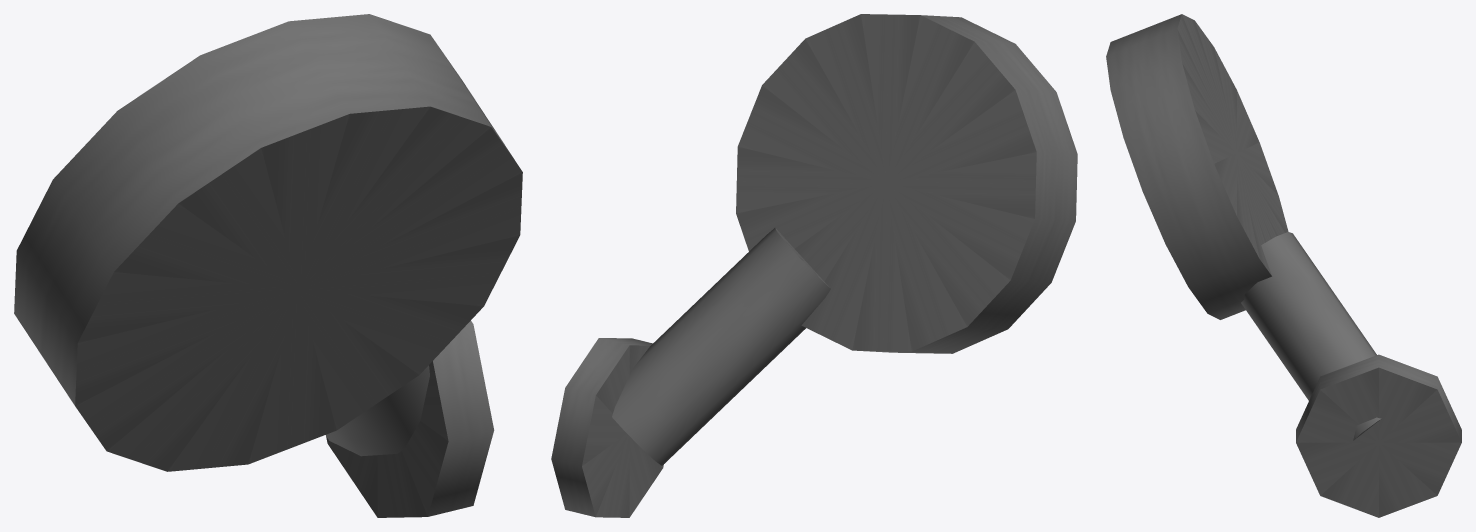
The model's file is mastarmcurve_8x2_c1_east.obj.
The picture shows the model from 3 angles, left to right: view 1: azimuth 30°, elevation 25°; view 2: azimuth 150°, elevation 25°; view 3: azimuth 270°, elevation 25°; orthographic projection. The views are drawn at different scales.
Parts seen in each view (by area): view 1: mastarm_8x2_c1_east; view 2: mastarm_8x2_c1_east; view 3: mastarm_8x2_c1_east.
Part boxes in pixels (x1,y1,x2,y2): mastarm_8x2_c1_east: (14, 14, 522, 517); mastarm_8x2_c1_east: (551, 14, 1077, 517); mastarm_8x2_c1_east: (1106, 14, 1461, 517).
Bounding box in the file's own units: 0.8709 × 1.07 × 0.8574.
